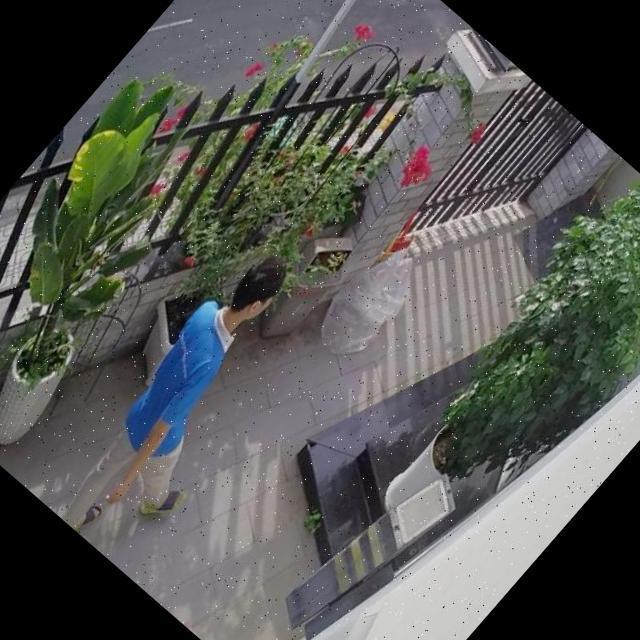person: (34, 240, 345, 572)
